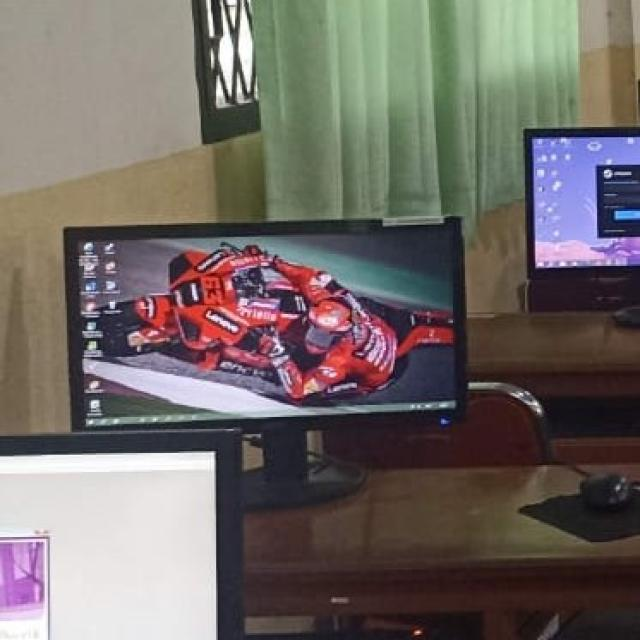onscreen: (68, 221, 466, 429), (0, 431, 241, 640), (525, 129, 640, 268)
